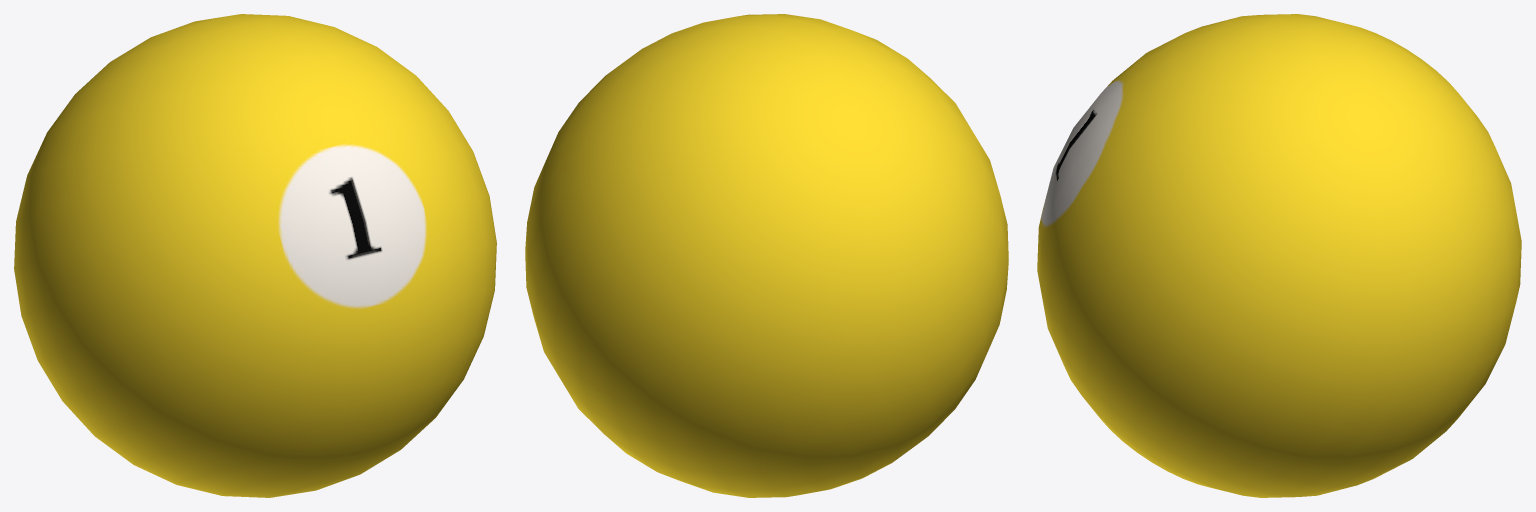
File: ball1.obj
3 views of the same model, side by side, from view 1: azimuth 30°, elevation 25°; view 2: azimuth 150°, elevation 25°; view 3: azimuth 270°, elevation 25° (orthographic).
Visible parts, largest first — view 1: Ball1_Mesh; view 2: Ball1_Mesh; view 3: Ball1_Mesh.
Part boxes in pixels (box(x1,y1,x2,y2)): Ball1_Mesh: box(14, 14, 496, 497); Ball1_Mesh: box(525, 14, 1008, 497); Ball1_Mesh: box(1037, 14, 1521, 497).
Size of the model in its own units: 0.9617 by 0.9597 by 0.9597.
1 material, 1 textured.
